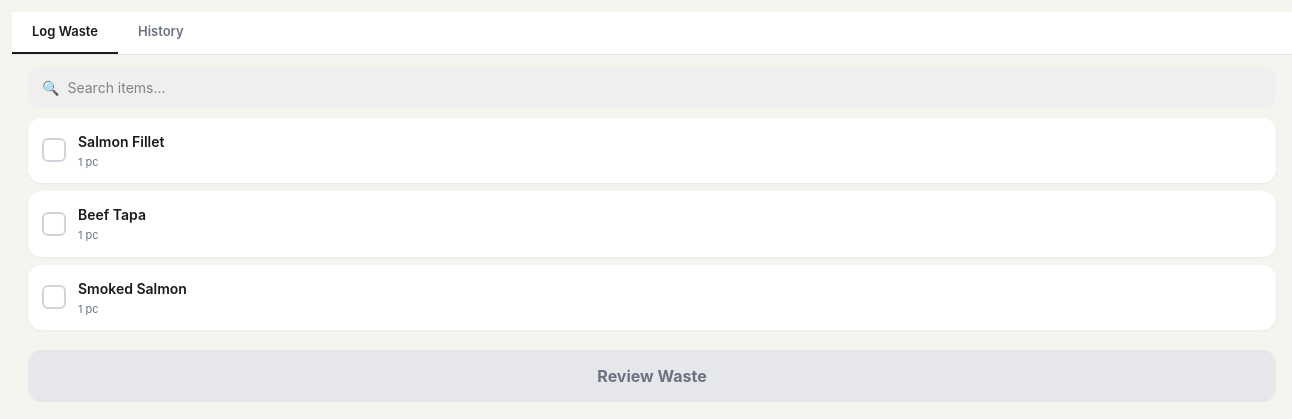
Test: WasteContent item selection › tapping an item checks it and shows qty stepper starting at 1
The image size is (1292, 419).
Click the element with test id "item-row-Salmon Fillet" at (652,150), box [28,118,1276,183]
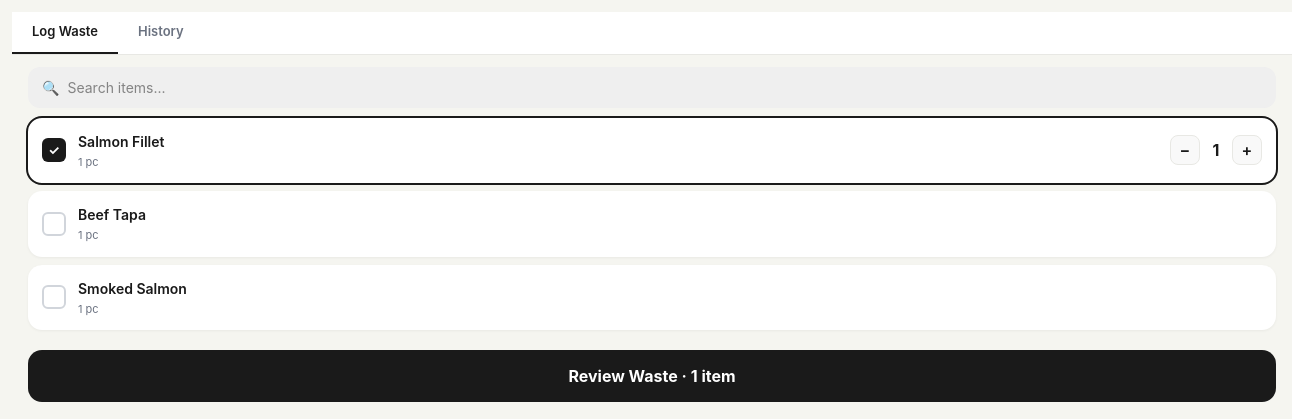
Result: the text with test id "qty-Salmon Fillet" reads "1" at [1212,140,1219,160]
